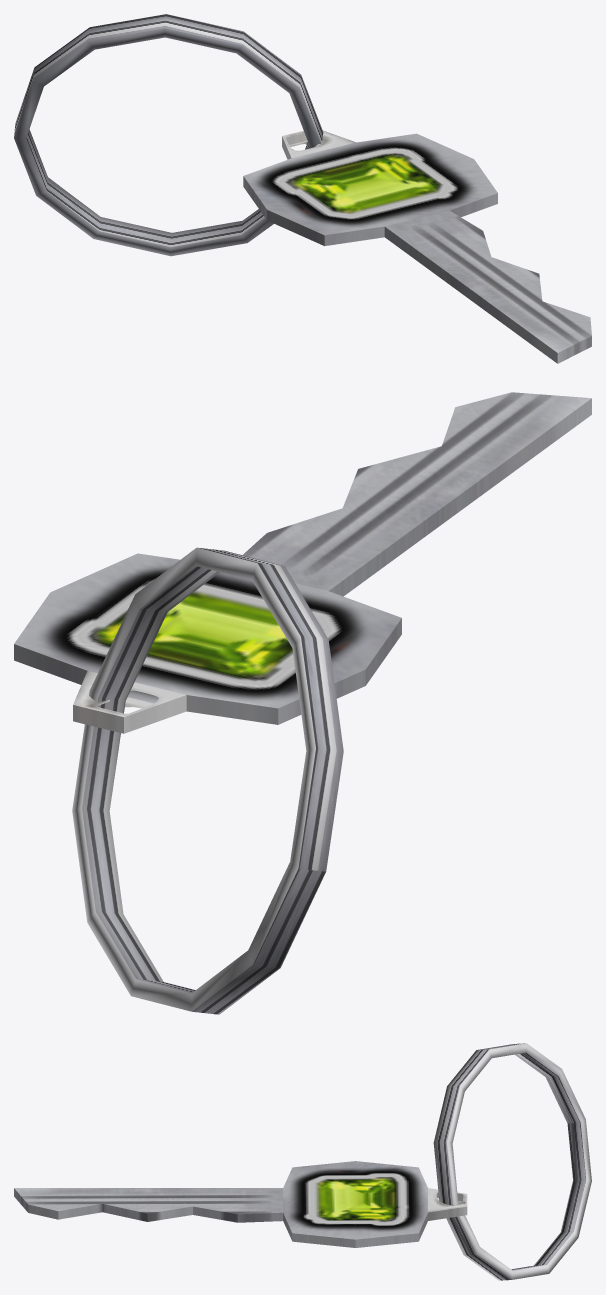
The model's file is key_j_peridot.fbx.
The picture shows the model from 3 angles, top to bottom: view 1: azimuth 30°, elevation 25°; view 2: azimuth 150°, elevation 25°; view 3: azimuth 270°, elevation 25°; orthographic projection. The views are drawn at different scales.
Visible parts, largest first — view 1: key_j_perid; view 2: key_j_perid; view 3: key_j_perid.
Part boxes in pixels (<box>): key_j_perid: <box>14,14,591,363</box>; key_j_perid: <box>14,392,591,1014</box>; key_j_perid: <box>14,1043,591,1280</box>.
Bounding box in the file's own units: 10.09 × 8.2 × 20.24.
1 material, 1 textured.
